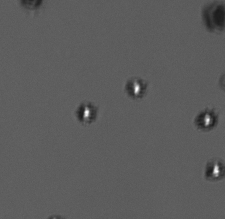Living Cell: (196, 110, 217, 131), (206, 160, 224, 180), (127, 79, 146, 97), (78, 103, 95, 122)
